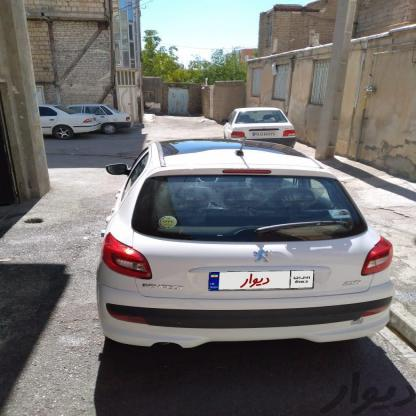Car: (82, 139, 399, 353), (219, 105, 298, 151), (30, 101, 100, 144), (77, 104, 132, 135)
